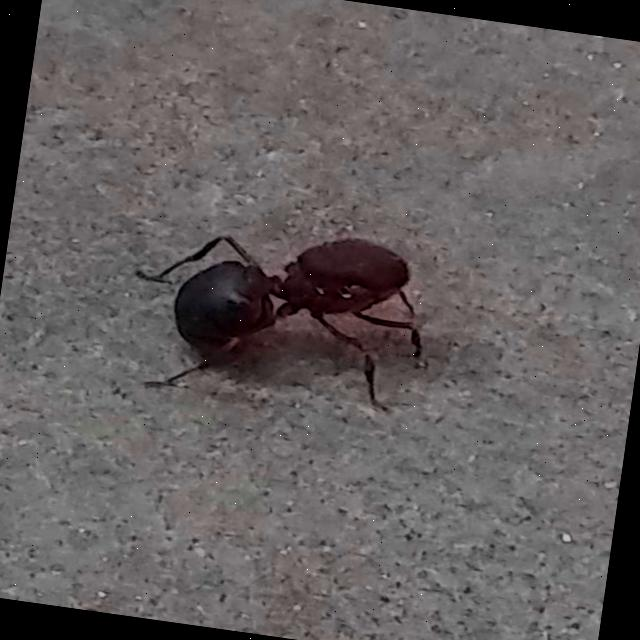Alive-Female-Dealate: (120, 210, 436, 423)
